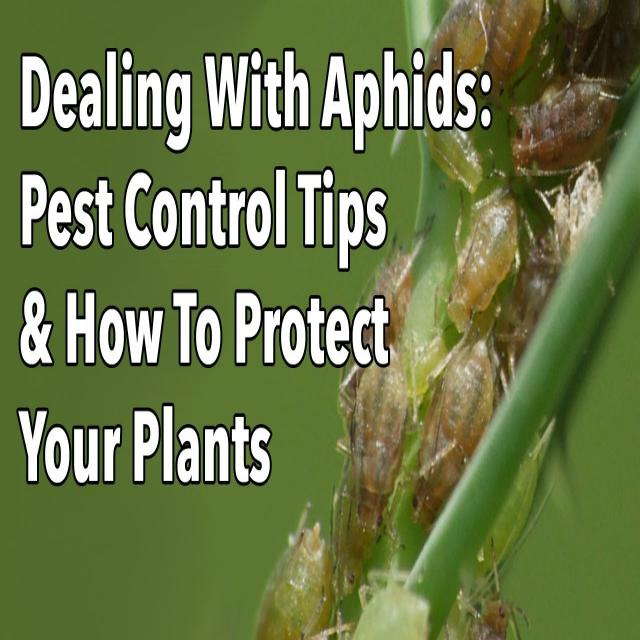Aphid-Grown-: (411, 325, 512, 552), (333, 333, 421, 560), (432, 175, 526, 344)
